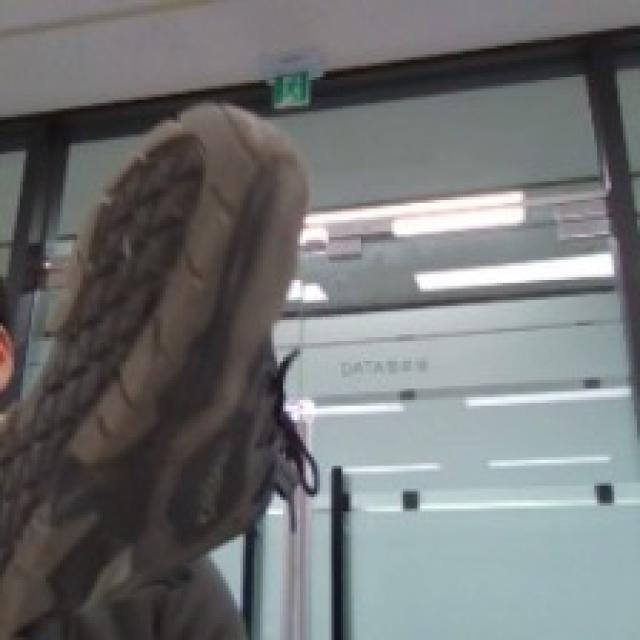shoe: (0, 100, 317, 640)
